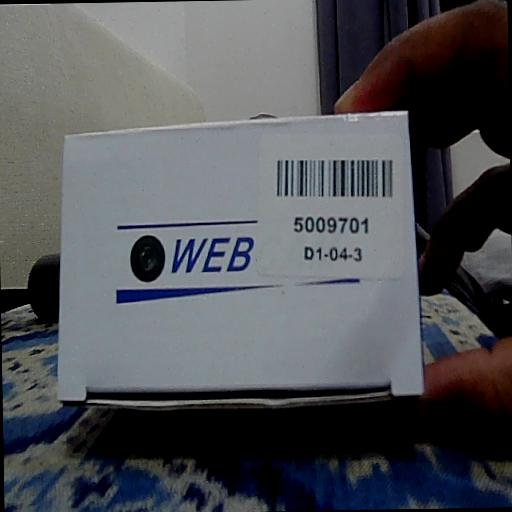webcam_box: (52, 108, 426, 411)
